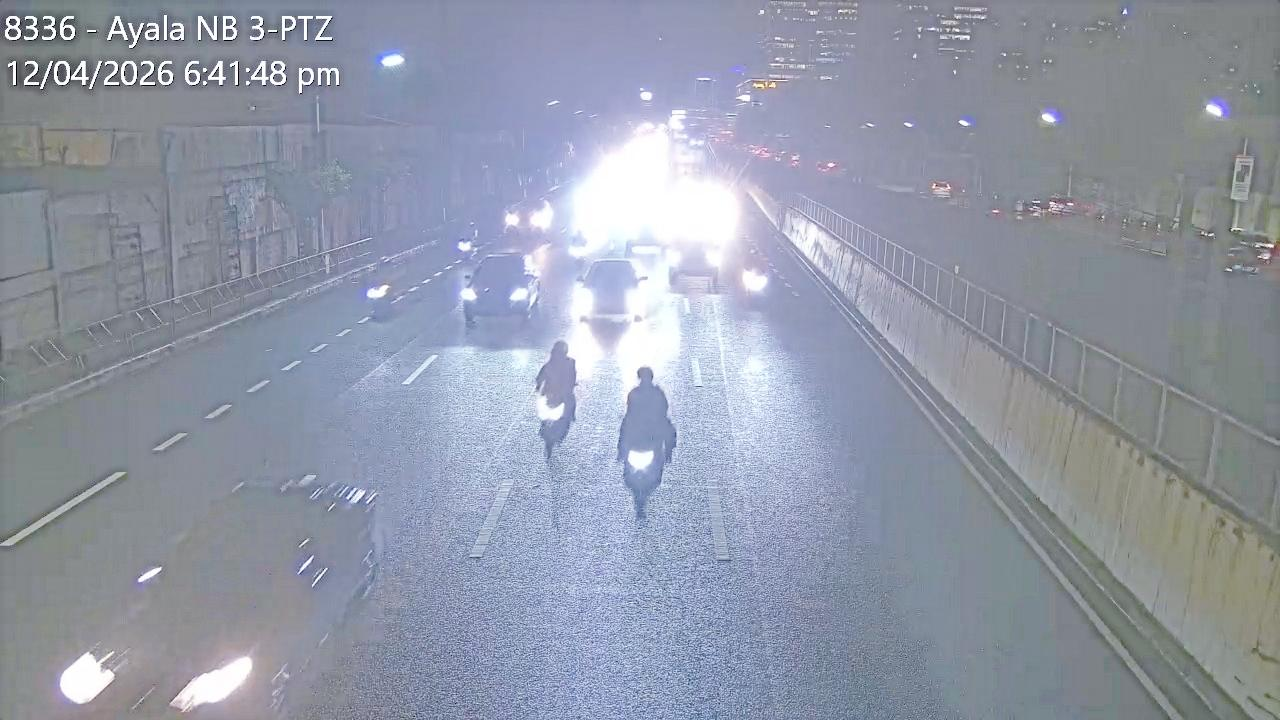Car: (109, 476, 388, 720), (462, 251, 544, 325), (573, 257, 650, 322), (993, 195, 1097, 226), (666, 228, 722, 284), (504, 192, 556, 241), (1224, 234, 1278, 278), (622, 222, 669, 262), (738, 244, 772, 298), (1014, 197, 1050, 218), (930, 181, 954, 200), (817, 161, 844, 176)
Motor: (618, 366, 678, 499), (533, 338, 584, 459), (366, 255, 400, 330), (458, 226, 484, 261)
Not Accident: (533, 258, 681, 502), (627, 214, 774, 306), (454, 224, 541, 323)
